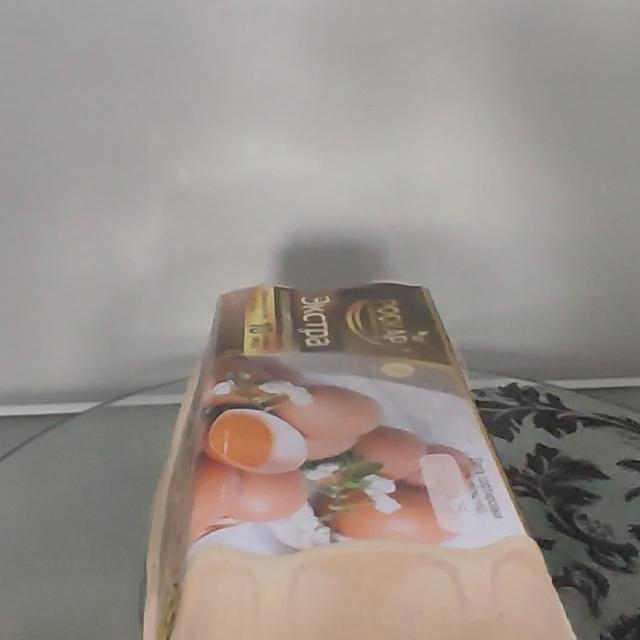egg: (149, 270, 573, 640)
